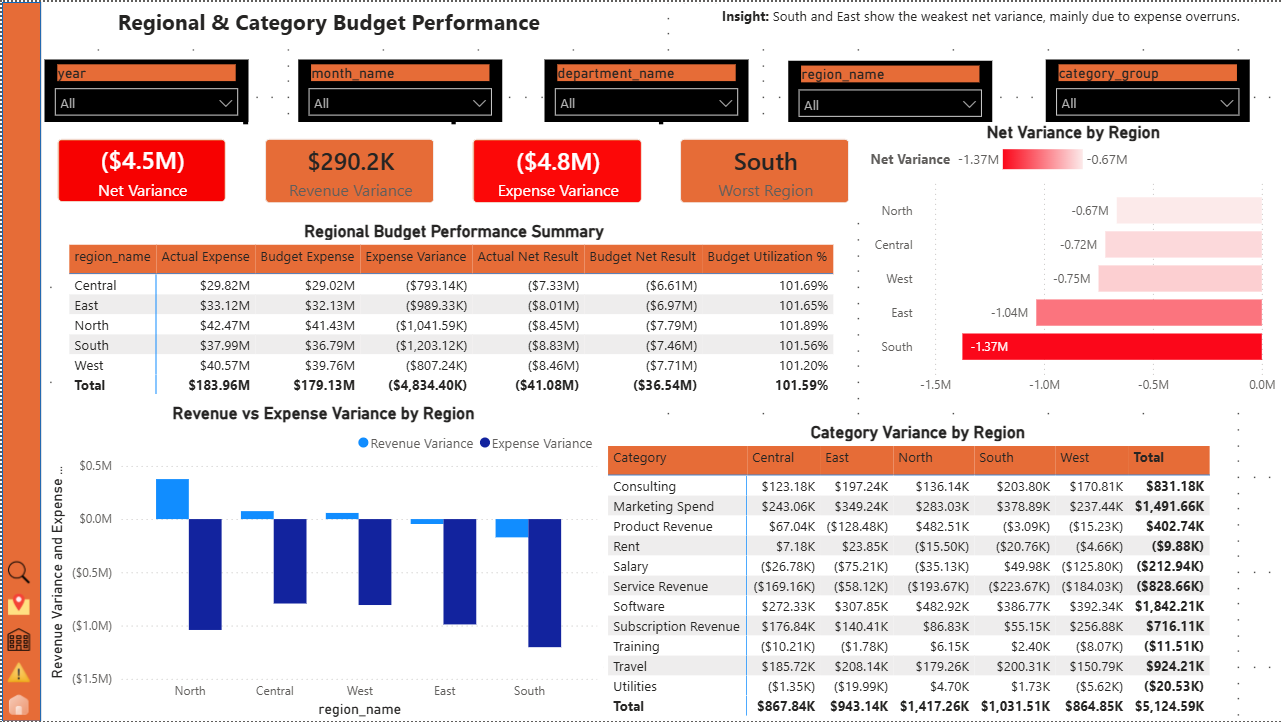

The dashboard page shown, as its layout file describes it:
{"tool":"powerbi","page":{"name":"Regional & Category Performance","canvas":[1280,720],"ordinal":3},"visuals":[{"type":"shape","box":[0,0,38.3,720],"z":0,"group":"g1"},{"type":"textbox","box":[42.7,0,568.9,47.4],"z":0},{"type":"slicer","fields":{"Values":["dim_date.year"]},"box":[42.7,56.9,203.9,65.2],"z":1000},{"type":"actionButton","box":[0,60,40,34.3],"z":1000,"group":"g1"},{"type":"slicer","fields":{"Values":["dim_date.month_name"]},"box":[296.3,56.9,203.9,65.2],"z":2000},{"type":"actionButton","box":[0,124.3,40,34.3],"z":2000,"group":"g1"},{"type":"slicer","fields":{"Values":["dim_department.department_name"]},"box":[542.8,58.1,203.9,65.2],"z":3000},{"type":"actionButton","box":[0,185.7,40,34.3],"z":3000,"group":"g1"},{"type":"slicer","fields":{"Values":["dim_region.region_name"]},"box":[785.8,59.3,203.9,65.2],"z":4000},{"type":"actionButton","box":[0,254.3,40,34.3],"z":4000,"group":"g1"},{"type":"actionButton","box":[0,0,40,34.3],"z":5000,"group":"g1"},{"type":"slicer","fields":{"Values":["dim_category.category_group"]},"box":[1044.1,58.1,203.9,65.2],"z":5000},{"type":"textbox","box":[690,0,558.3,38.3],"z":6000},{"type":"cardVisual","fields":{"Data":["_Measures.Net Variance"]},"box":[39.1,120.6,202.7,97.2],"z":7000},{"type":"cardVisual","fields":{"Data":["_Measures.Revenue Variance"]},"box":[246,120.6,203.2,98.2],"z":8000},{"type":"cardVisual","fields":{"Data":["_Measures.Expense Variance"]},"box":[453.4,120.6,203.2,98.2],"z":9000},{"type":"cardVisual","fields":{"Data":["_Measures.Worst Region"]},"box":[660.8,120.6,203.2,98.2],"z":10000},{"type":"pivotTable","title":"Regional Budget Performance Summary","fields":{"Rows":["dim_region.region_name"],"Values":["_Measures.Actual Expense","_Measures.Budget Expense","_Measures.Expense Variance","_Measures.Actual Net Result","_Measures.Budget Net Result","_Measures.Budget Utilization %"]},"box":[62.5,218.8,779.2,183.1],"z":11000},{"type":"clusteredBarChart","title":"Net Variance by Region","fields":{"Category":["dim_region.region_name"],"Y":["_Measures.Net Variance"]},"box":[864,120.6,415.3,281.3],"z":12000},{"type":"clusteredColumnChart","title":"Revenue vs Expense Variance by Region","fields":{"Category":["dim_region.region_name"],"Y":["_Measures.Revenue Variance","_Measures.Expense Variance"]},"box":[42.4,401.9,558.1,319.3],"z":13000},{"type":"pivotTable","title":"Category Variance by Region","fields":{"Rows":["dim_category.category_name"],"Columns":["dim_region.region_name"],"Values":["_Measures.Variance"]},"box":[600.9,419.6,629.3,301],"z":14000},{"type":"actionButton","box":[0,686.5,40.2,33.5],"z":15000},{"type":"group","id":"g1","title":"Group 1","box":[0,0,40,720],"z":16000}]}

Visuals, with their boxes on the page's 1280x720 design canvas (x1, y1, x2, y2). These are canvas units, not pixel positions in the 1282x722 screenshot, which may show the page scaled, cropped or inside an application window:
shape: x1=0 y1=0 x2=38 y2=720
textbox: x1=43 y1=0 x2=612 y2=47
slicer - dim_date.year: x1=43 y1=57 x2=247 y2=122
actionButton: x1=0 y1=60 x2=40 y2=94
slicer - dim_date.month_name: x1=296 y1=57 x2=500 y2=122
actionButton: x1=0 y1=124 x2=40 y2=159
slicer - dim_department.department_name: x1=543 y1=58 x2=747 y2=123
actionButton: x1=0 y1=186 x2=40 y2=220
slicer - dim_region.region_name: x1=786 y1=59 x2=990 y2=124
actionButton: x1=0 y1=254 x2=40 y2=289
actionButton: x1=0 y1=0 x2=40 y2=34
slicer - dim_category.category_group: x1=1044 y1=58 x2=1248 y2=123
textbox: x1=690 y1=0 x2=1248 y2=38
cardVisual - _Measures.Net Variance: x1=39 y1=121 x2=242 y2=218
cardVisual - _Measures.Revenue Variance: x1=246 y1=121 x2=449 y2=219
cardVisual - _Measures.Expense Variance: x1=453 y1=121 x2=657 y2=219
cardVisual - _Measures.Worst Region: x1=661 y1=121 x2=864 y2=219
"Regional Budget Performance Summary" pivotTable: x1=62 y1=219 x2=842 y2=402
"Net Variance by Region" clusteredBarChart: x1=864 y1=121 x2=1279 y2=402
"Revenue vs Expense Variance by Region" clusteredColumnChart: x1=42 y1=402 x2=600 y2=721
"Category Variance by Region" pivotTable: x1=601 y1=420 x2=1230 y2=721
actionButton: x1=0 y1=686 x2=40 y2=720
"Group 1" group: x1=0 y1=0 x2=40 y2=720
